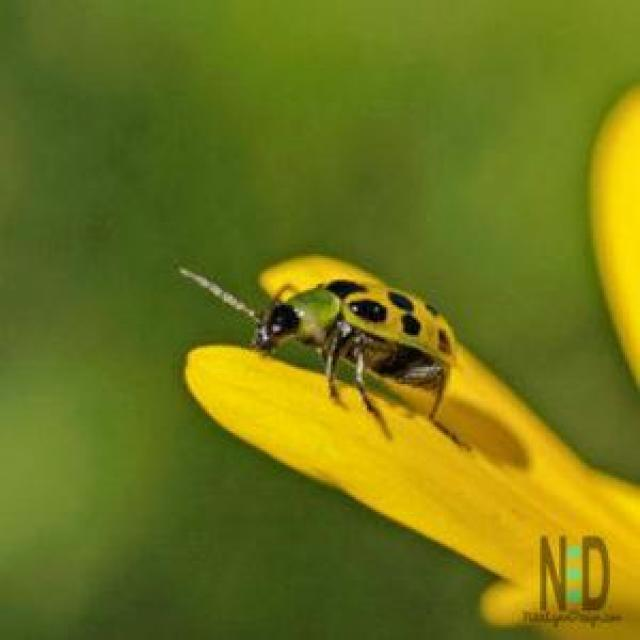gusano_verde: (177, 260, 491, 414)
